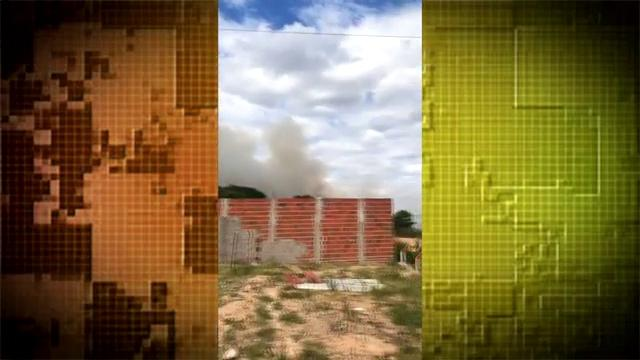smoke: (266, 126, 319, 193), (220, 125, 254, 183)
